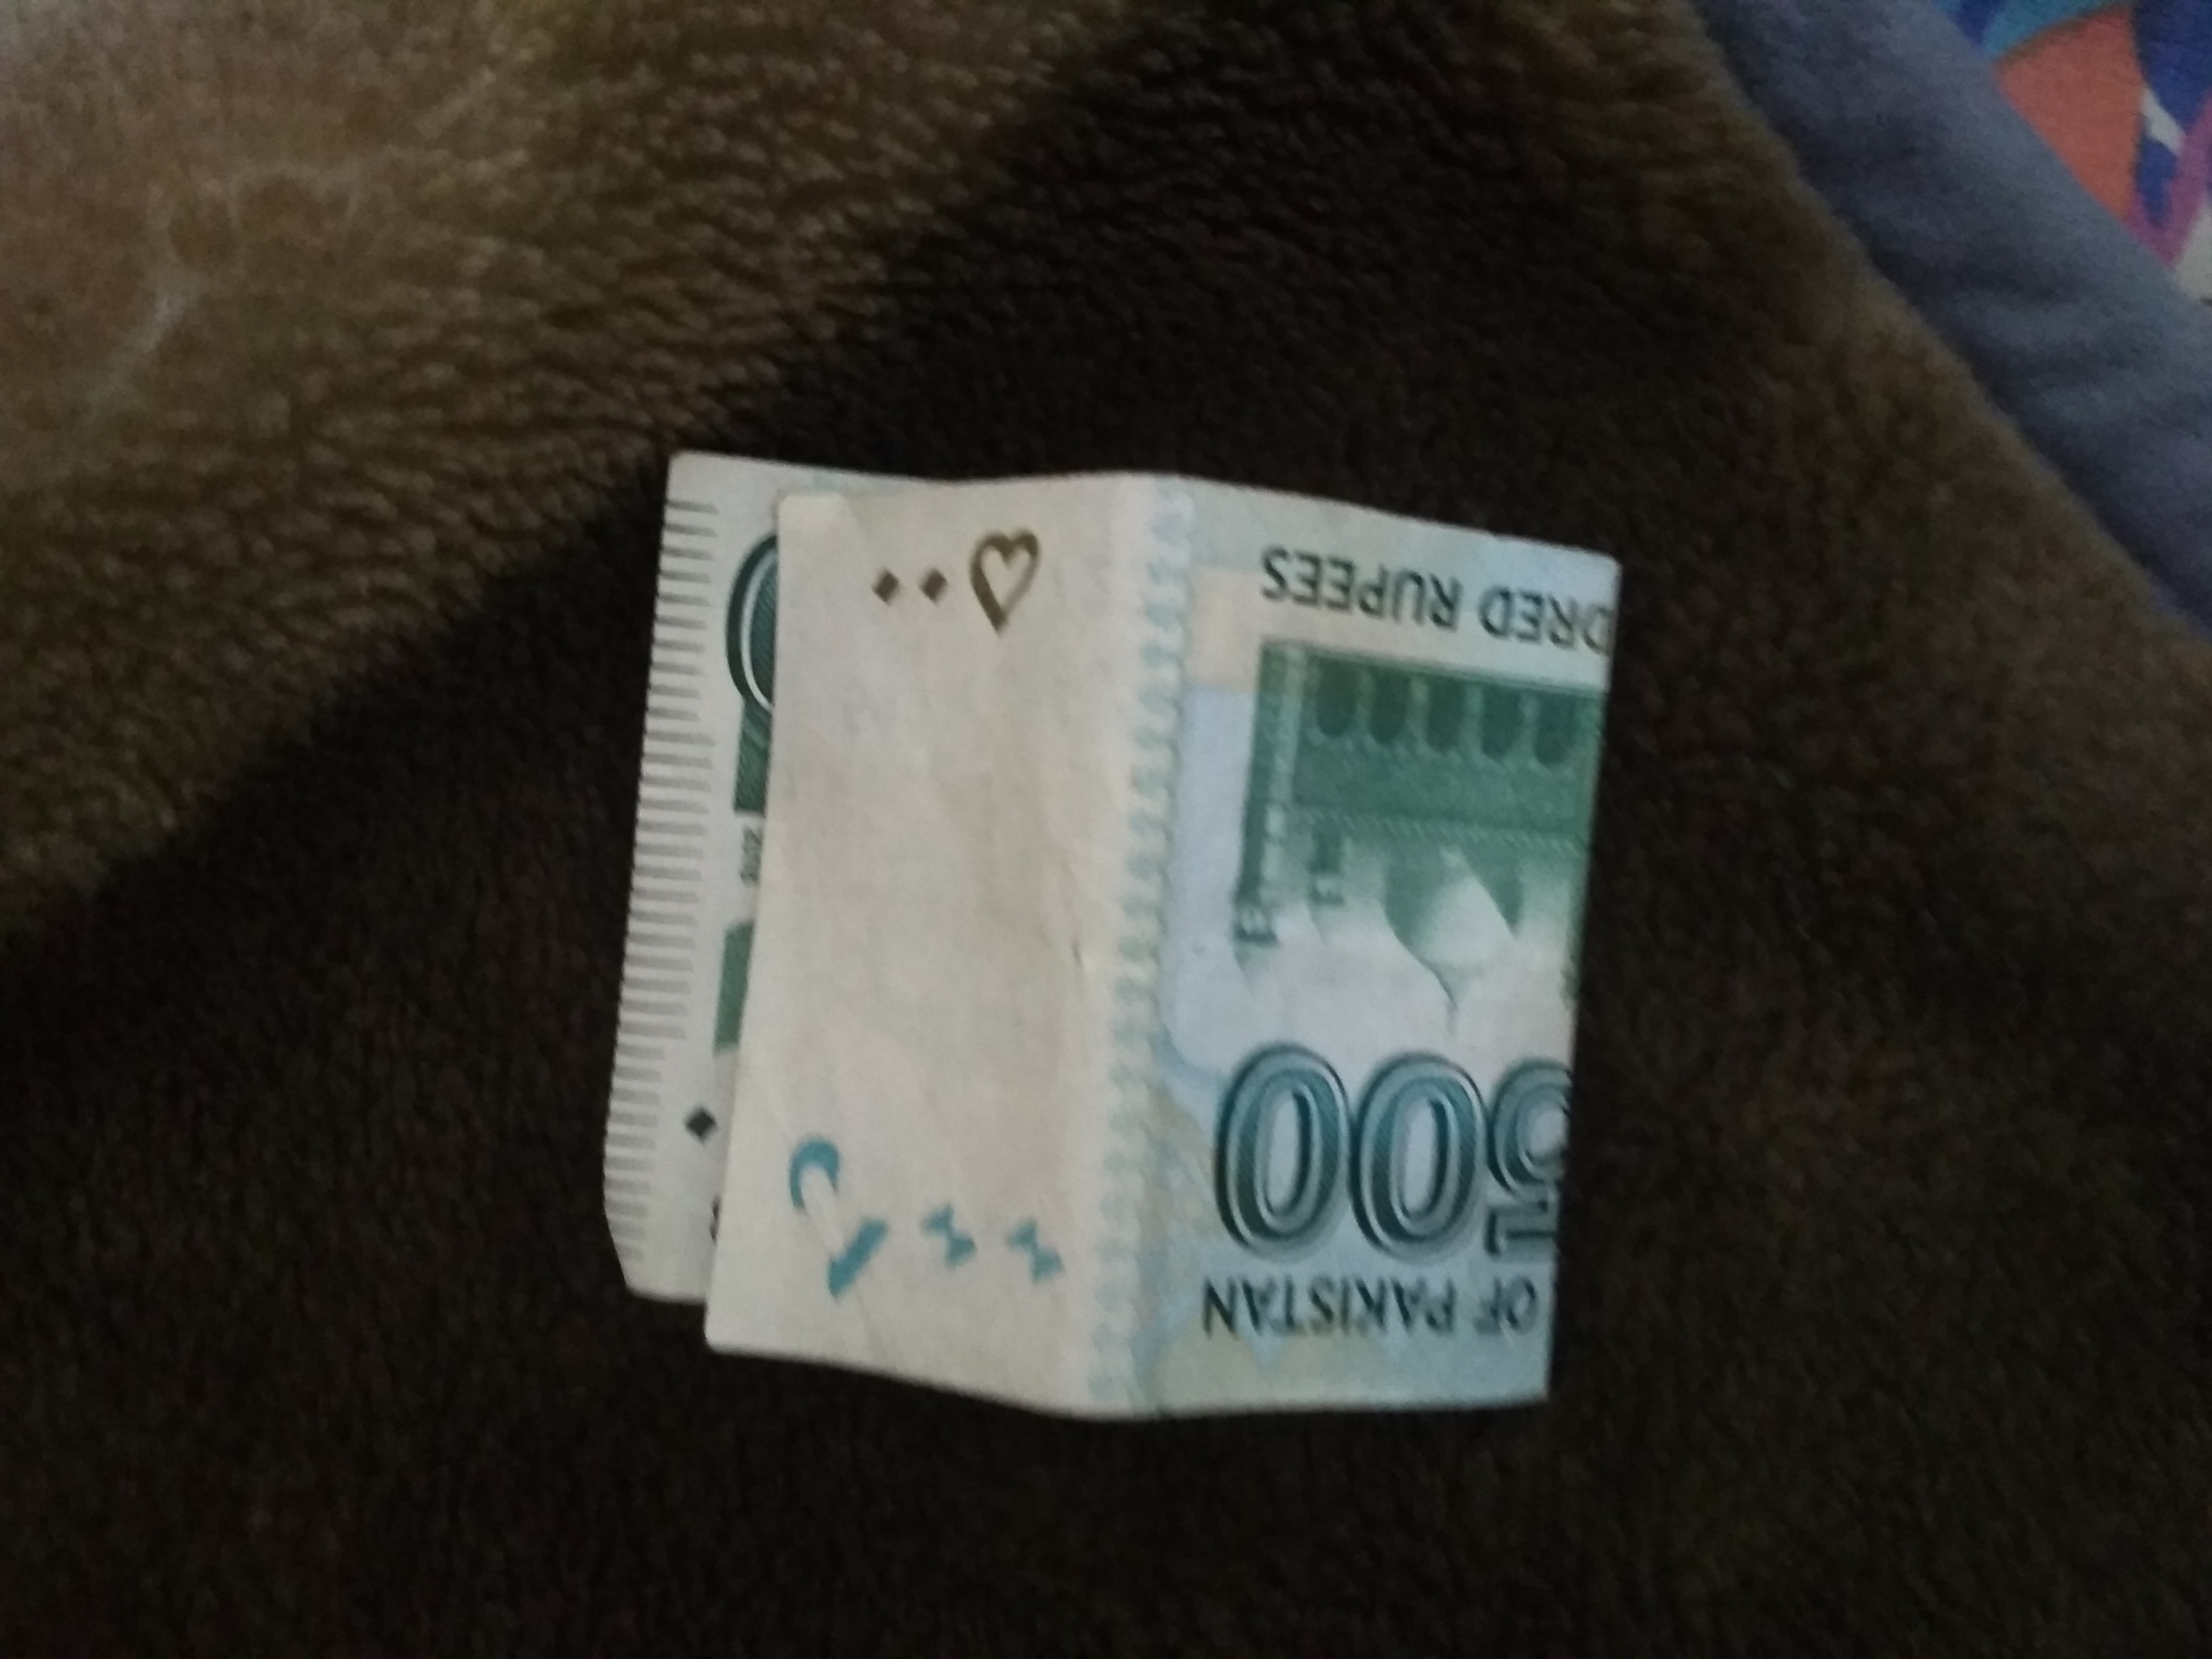500 rupee: (632, 416, 1629, 1483)
